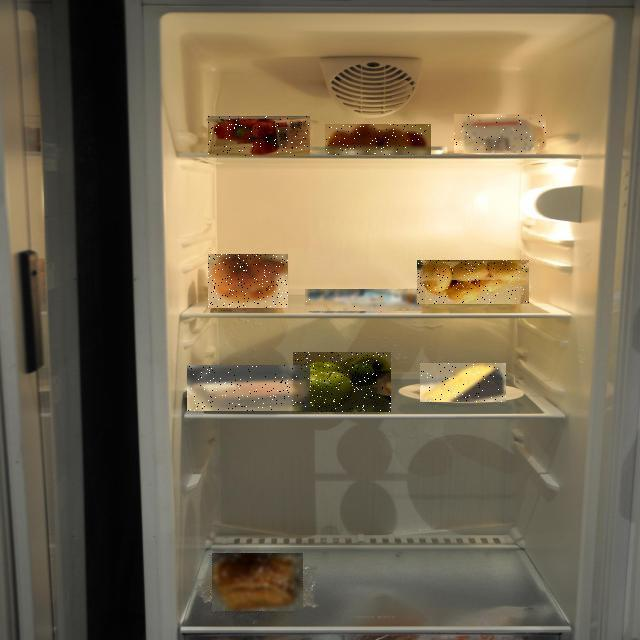apple: (98, 206, 488, 618)
cheese: (167, 201, 640, 603)
egg: (110, 78, 540, 232)
potato: (153, 152, 640, 456)
